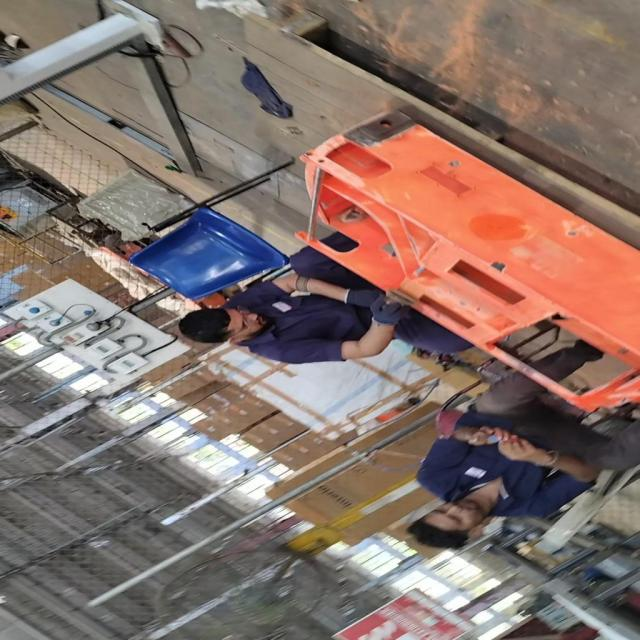Gloves-Detection: (347, 286, 395, 330)
